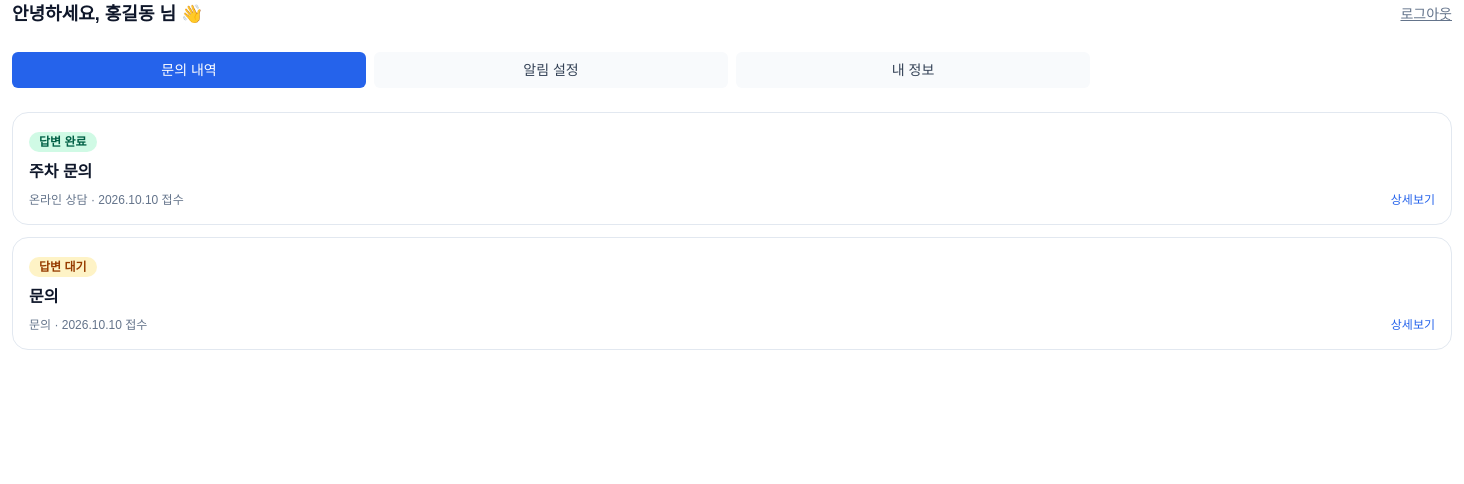
Scenario: 탭 동작 › 문의 내역 — 배지 · 상세(답변)
Expected: the text "답변 완료" is shown, 29,132 -> 96,152
Expected: the text "답변 대기" is shown, 29,257 -> 96,277
Click the button "상세보기" in the row of "온라인 상담".
click(1413, 200)  # box 1391,192 -> 1435,208
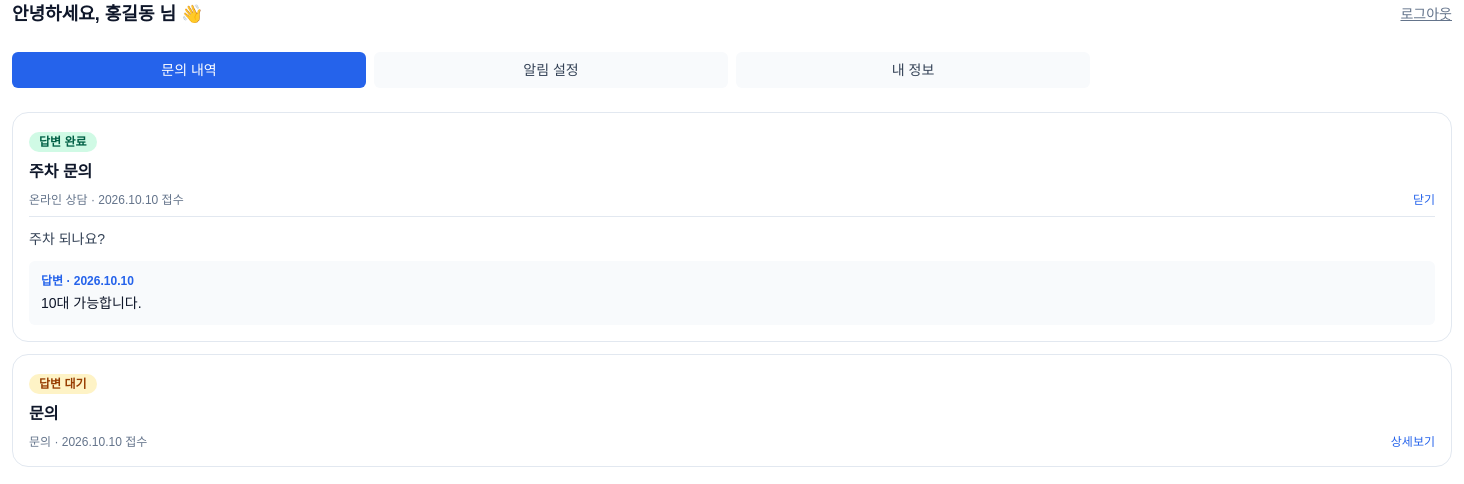
Result: the text "10대 가능합니다." is shown at 41,295 -> 142,311
